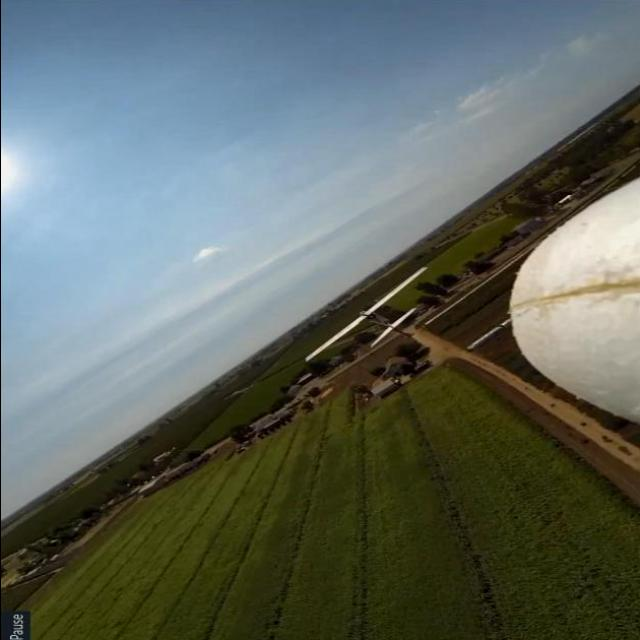plane: (299, 260, 436, 366)
